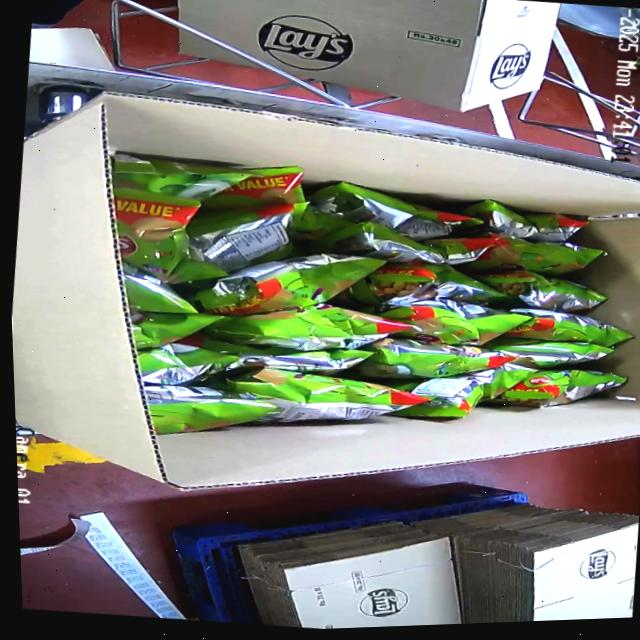YOGURT_HERB: (139, 154, 638, 470)
